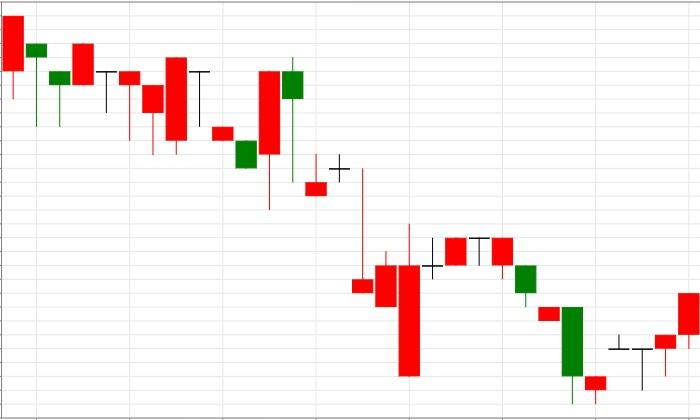hammer_rise: (2, 16, 70, 127)
hanging_man_fall: (235, 57, 304, 210)
inverse_hammer_rise: (281, 57, 374, 294)
